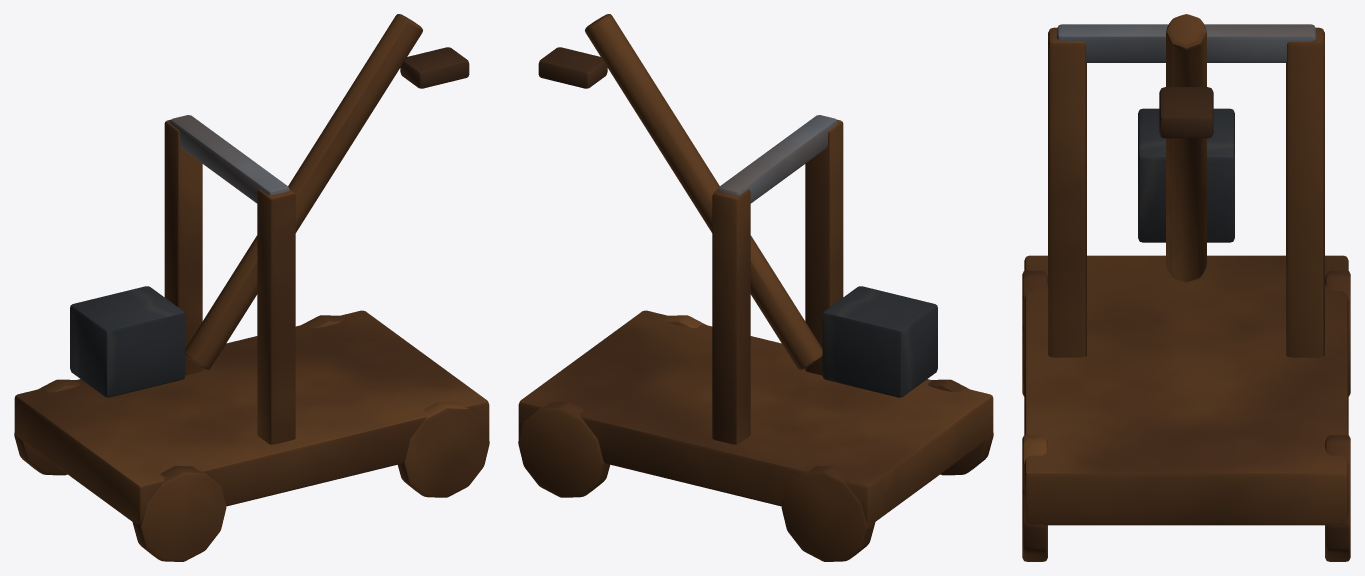
The model's file is unit_university_trebuchet.fbx.
3 renders of one model, left to right at view 1: azimuth 30°, elevation 25°; view 2: azimuth 150°, elevation 25°; view 3: azimuth 270°, elevation 25°, orthographic. The views are drawn at different scales.
Parts seen in each view (by area): view 1: unit_university_trebuchet; view 2: unit_university_trebuchet; view 3: unit_university_trebuchet.
Boxes of the visible parts, left/top/right/bottom form: unit_university_trebuchet: left=14, top=14, right=489, bottom=561; unit_university_trebuchet: left=518, top=14, right=993, bottom=561; unit_university_trebuchet: left=1022, top=14, right=1350, bottom=561.
Bounding box in the file's own units: 2.62 × 2.82 × 1.52.
